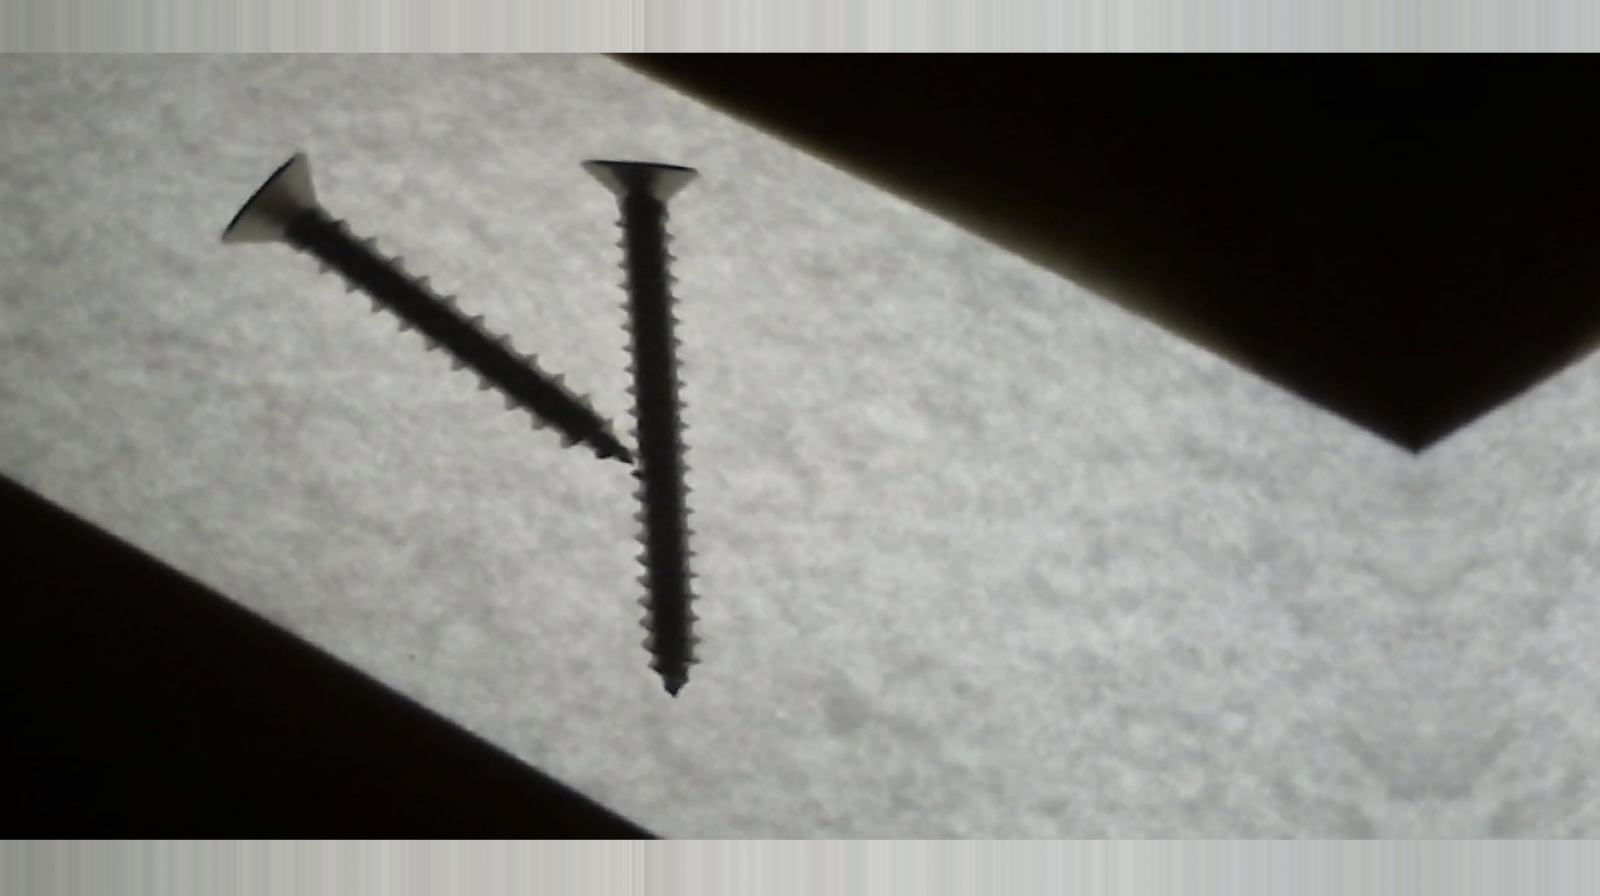S001: (199, 140, 625, 457)
S002: (527, 142, 814, 692)
